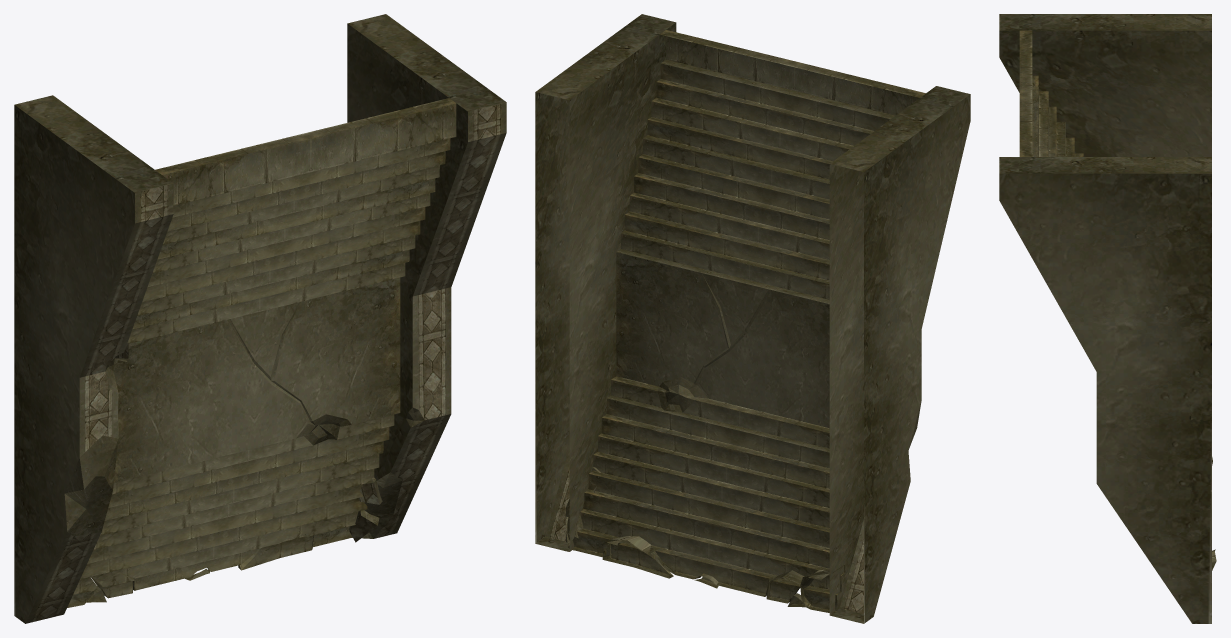
The model's file is huodong_fuben_365_louti01.obj.
The picture shows the model from 3 angles, left to right: view 1: azimuth 30°, elevation 25°; view 2: azimuth 150°, elevation 25°; view 3: azimuth 270°, elevation 25°; orthographic projection. The views are drawn at different scales.
Parts seen in each view (by area): view 1: Object01; view 2: Object01; view 3: Object01.
Boxes of the visible parts, <box> form: Object01: <box>14,14,506,623</box>; Object01: <box>535,14,970,623</box>; Object01: <box>999,14,1216,623</box>.
Bounding box in the file's own units: 680 × 900 × 391.
1 material, 1 textured.
